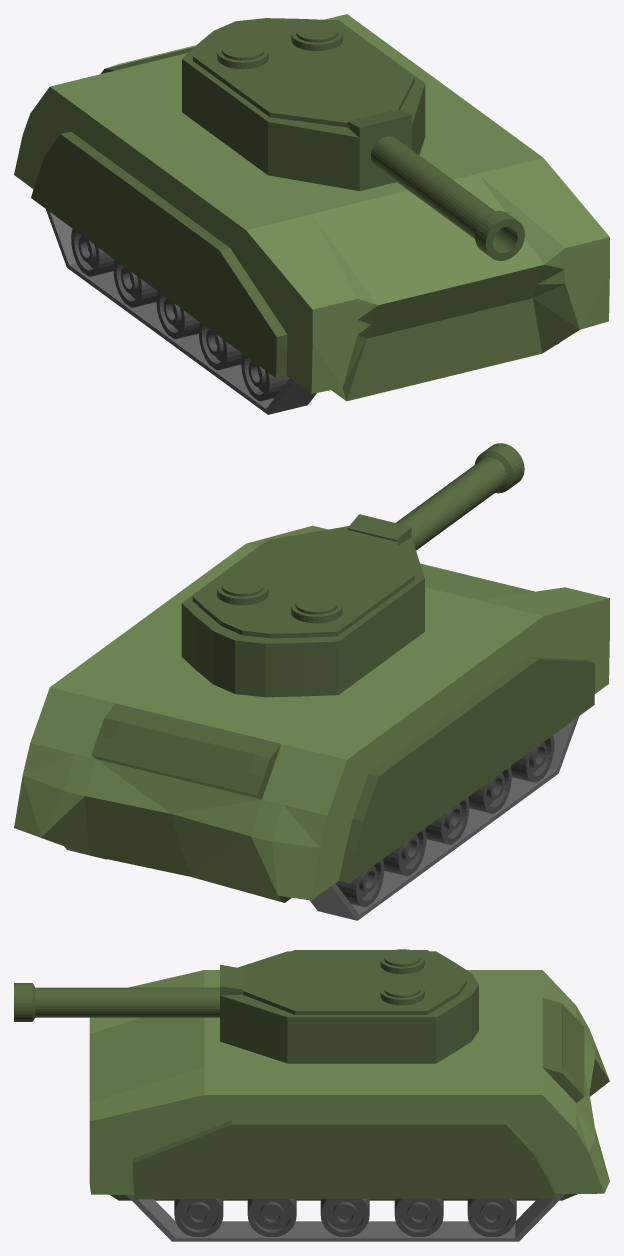
File: tank.glb
3 renders of one model, top to bottom at view 1: azimuth 30°, elevation 25°; view 2: azimuth 150°, elevation 25°; view 3: azimuth 270°, elevation 25°, orthographic. The views are drawn at different scales.
Visible parts, largest first — view 1: body, turret, maingun, road_wheels, tracks; view 2: body, turret, maingun, road_wheels, tracks; view 3: body, turret, road_wheels, maingun, tracks.
Boxes of the visible parts, box(x1,y1,x2,y2) form: body: box(14, 14, 609, 401); turret: box(182, 18, 425, 190); maingun: box(348, 109, 524, 260); road_wheels: box(71, 229, 289, 401); tracks: box(46, 209, 558, 414); body: box(14, 525, 609, 902); turret: box(181, 526, 424, 697); maingun: box(347, 443, 524, 550); road_wheels: box(335, 735, 554, 907); tracks: box(64, 716, 579, 920); body: box(89, 970, 609, 1200); turret: box(220, 949, 478, 1063); road_wheels: box(174, 1198, 516, 1236); maingun: box(14, 964, 242, 1021); tracks: box(126, 1194, 565, 1241).
Bounding box in the file's own units: 3.86 × 2.8 × 7.25.
